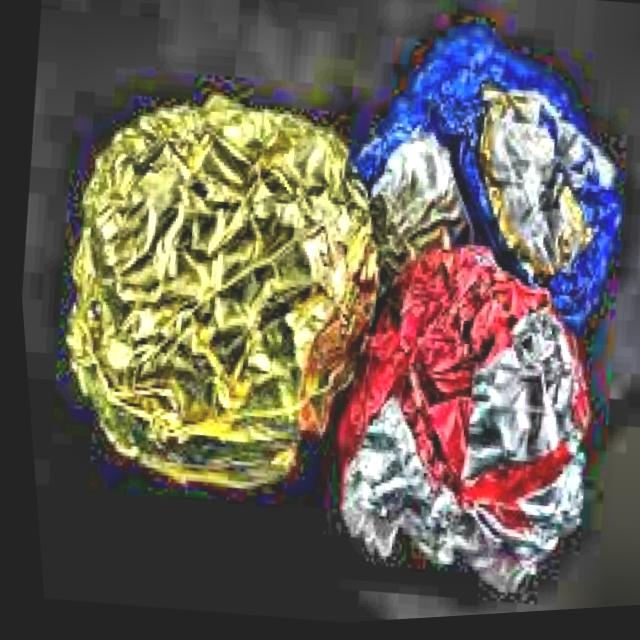Foil: (15, 57, 387, 520), (289, 242, 640, 627), (309, 6, 640, 354)
